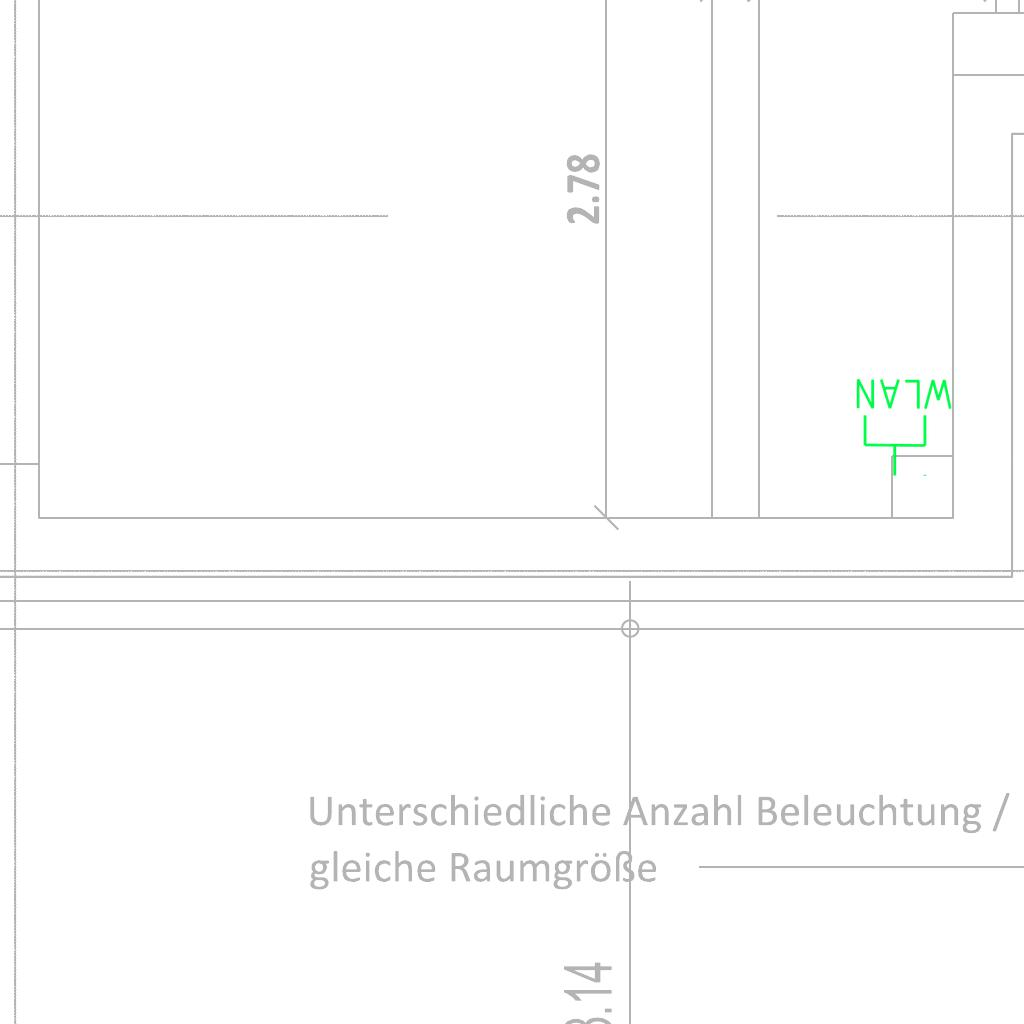WLAN: (852, 375, 957, 479)
